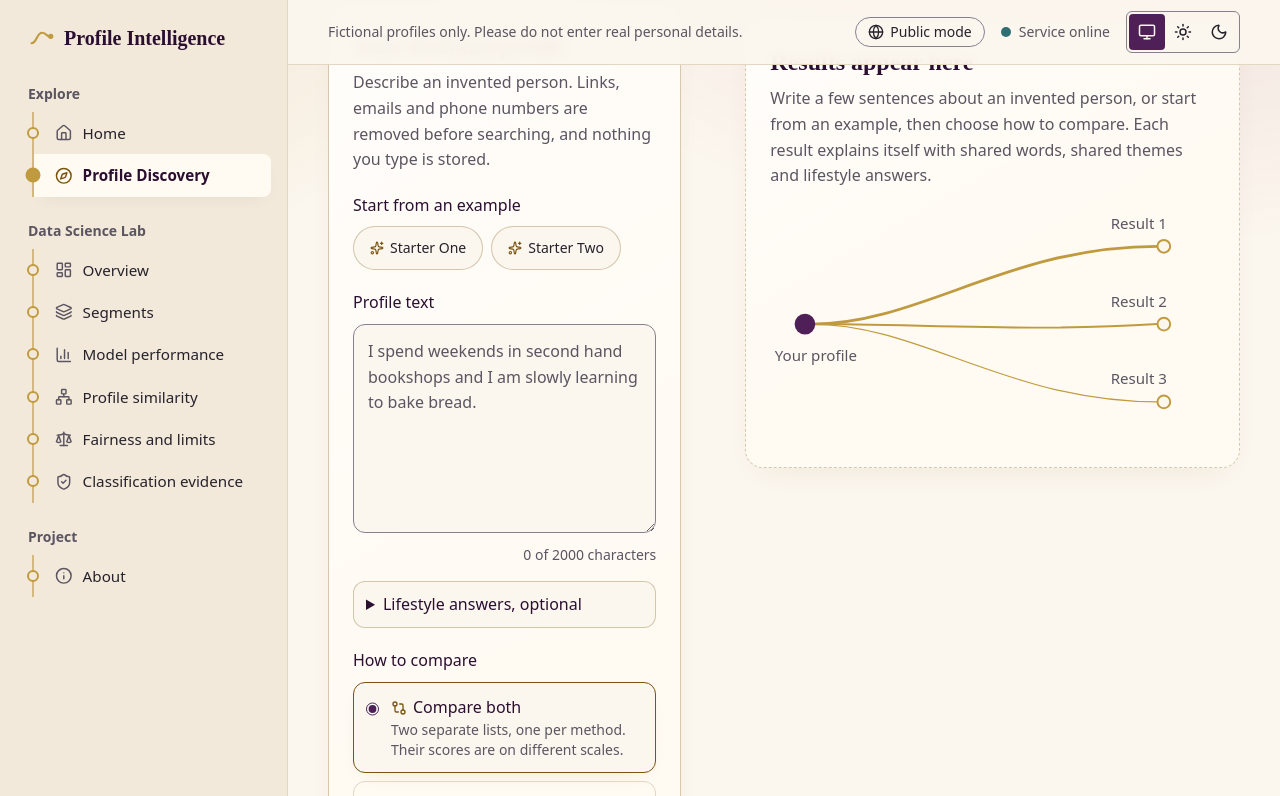
Test case: Discover page: validation › refuses text under the minimum word count, using the limit from the service
The width and height of the screenshot is (1280, 796).
(page scrolled)
Type "hello there" into the text box labelled "Profile text". click: (505, 428)
box: x1=353 y1=324 x2=656 y2=533
(page scrolled)
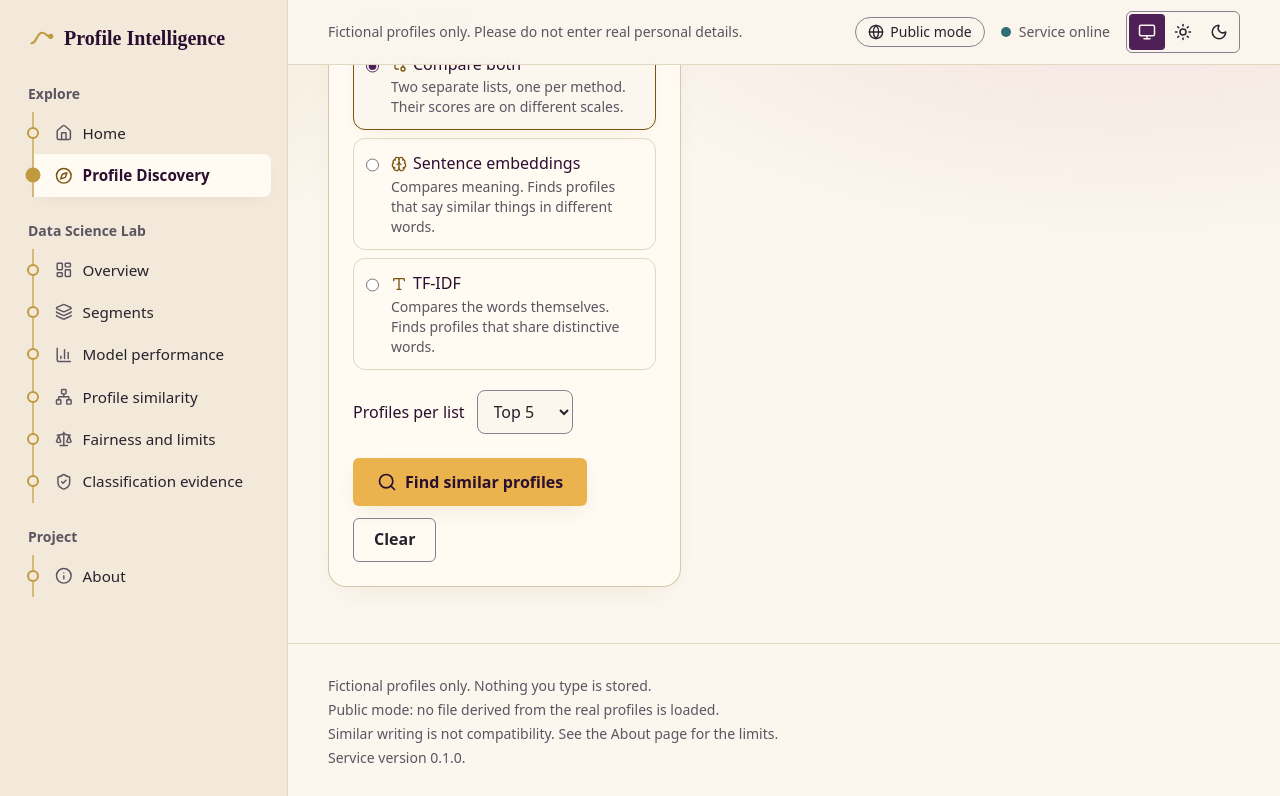
Click the button "Find similar profiles". click: click(470, 482)
box: x1=353 y1=458 x2=587 y2=506
(page scrolled)
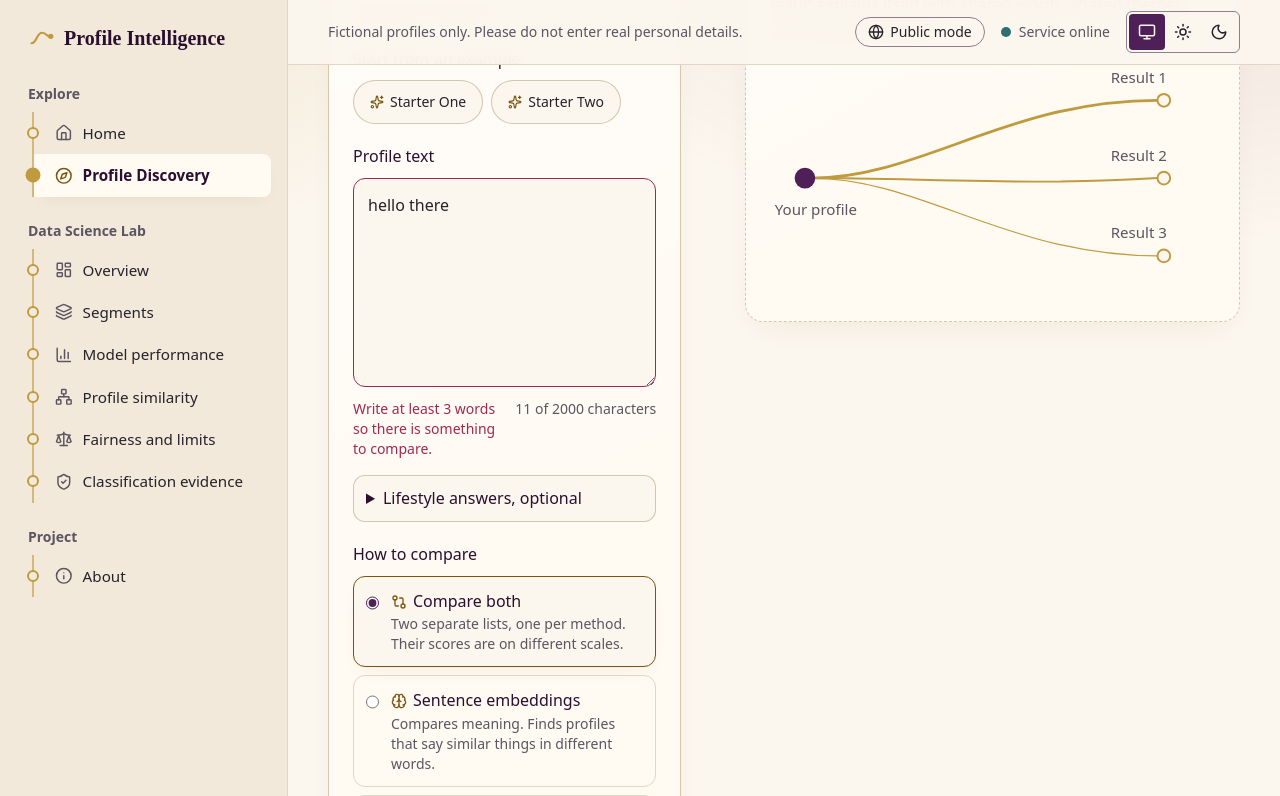
Expected: the text "Write at least 3 words so there is something to compare." is shown, x1=353 y1=399 x2=503 y2=459
